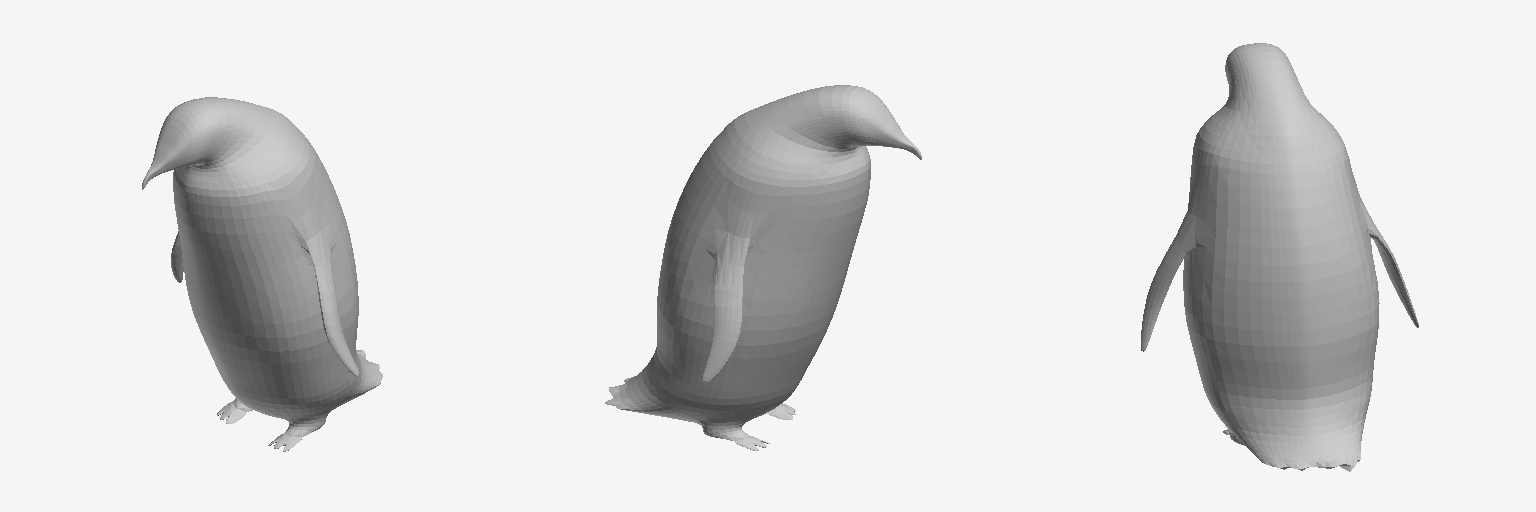
The model's file is penguin2.obj.
3 renders of one model, left to right at view 1: azimuth 30°, elevation 25°; view 2: azimuth 150°, elevation 25°; view 3: azimuth 270°, elevation 25°, orthographic.
Parts seen in each view (by area): view 1: Penguin_Cylinder.006; view 2: Penguin_Cylinder.006; view 3: Penguin_Cylinder.006.
Boxes of the visible parts, x1,y1,x2,y2 form: Penguin_Cylinder.006: [142, 97, 382, 451]; Penguin_Cylinder.006: [605, 85, 921, 450]; Penguin_Cylinder.006: [1141, 43, 1418, 471].
Bounding box in the file's own units: 157 × 197 × 142.